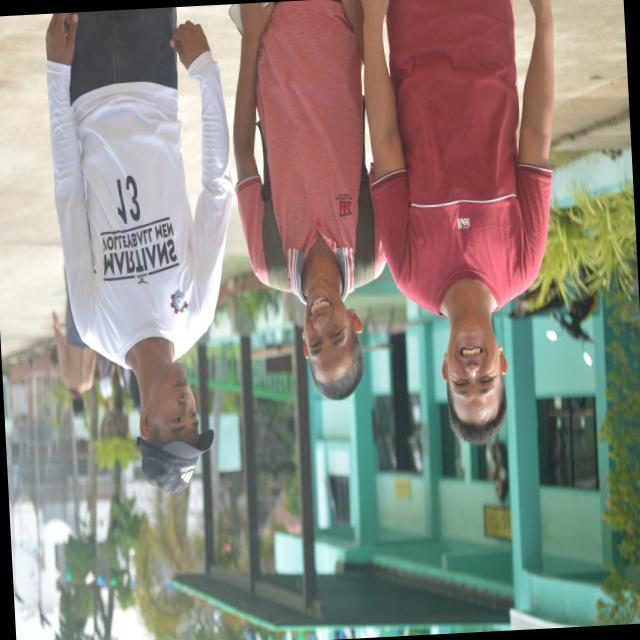person: (47, 7, 233, 491), (363, 0, 554, 443), (234, 0, 385, 398), (53, 289, 96, 415), (98, 354, 115, 409)
